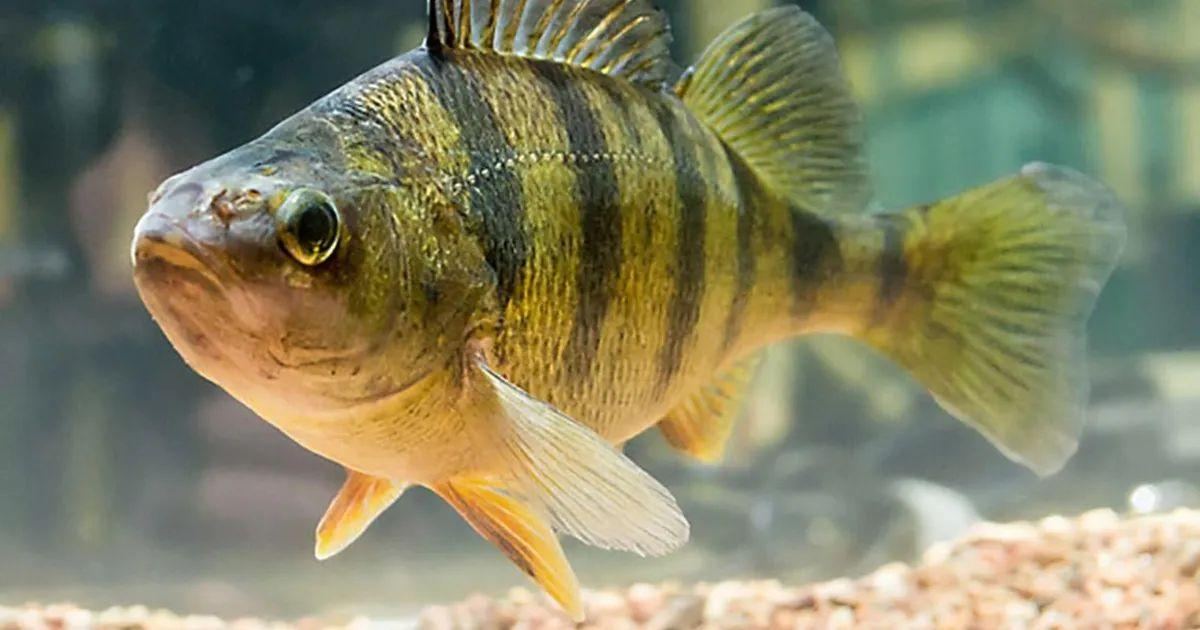Perch: (121, 3, 1128, 630)
